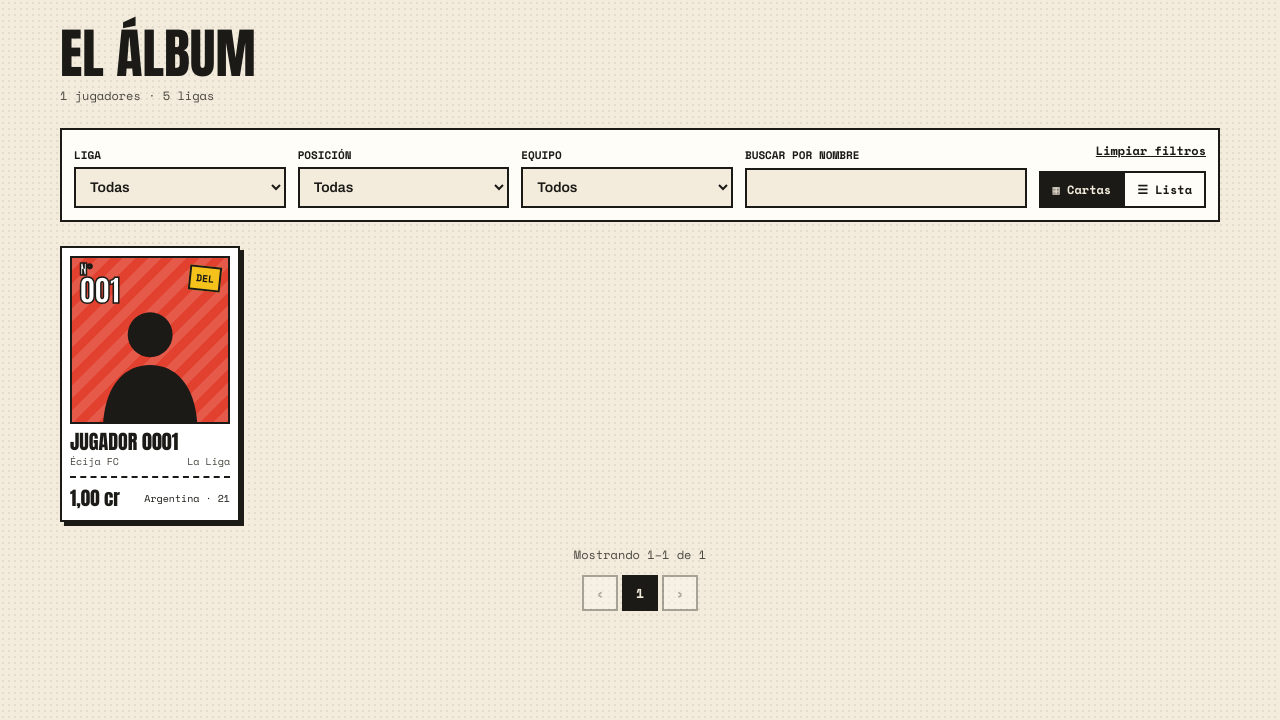
AlbumPage › retries with the current remote filters
Expected: the element named "Jugador 0001, Écija FC" is shown, x1=60 y1=246 x2=240 y2=522
Select "La Liga" in the dropdown labelled "Liga". click: (180, 188)
box: x1=74 y1=167 x2=286 y2=208
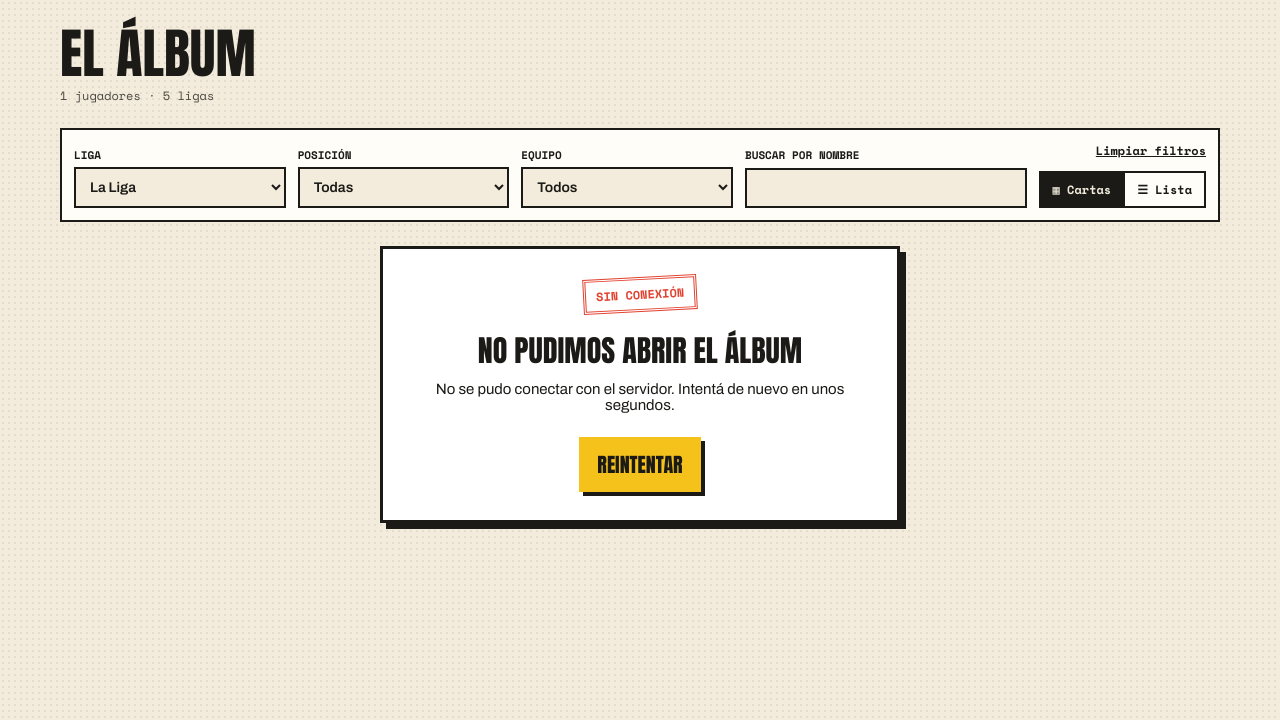
Now the heading "No pudimos abrir el álbum" is shown, box x1=478 y1=328 x2=802 y2=373
Click the button "Reintentar". click: click(640, 465)
box: x1=579 y1=437 x2=701 y2=492
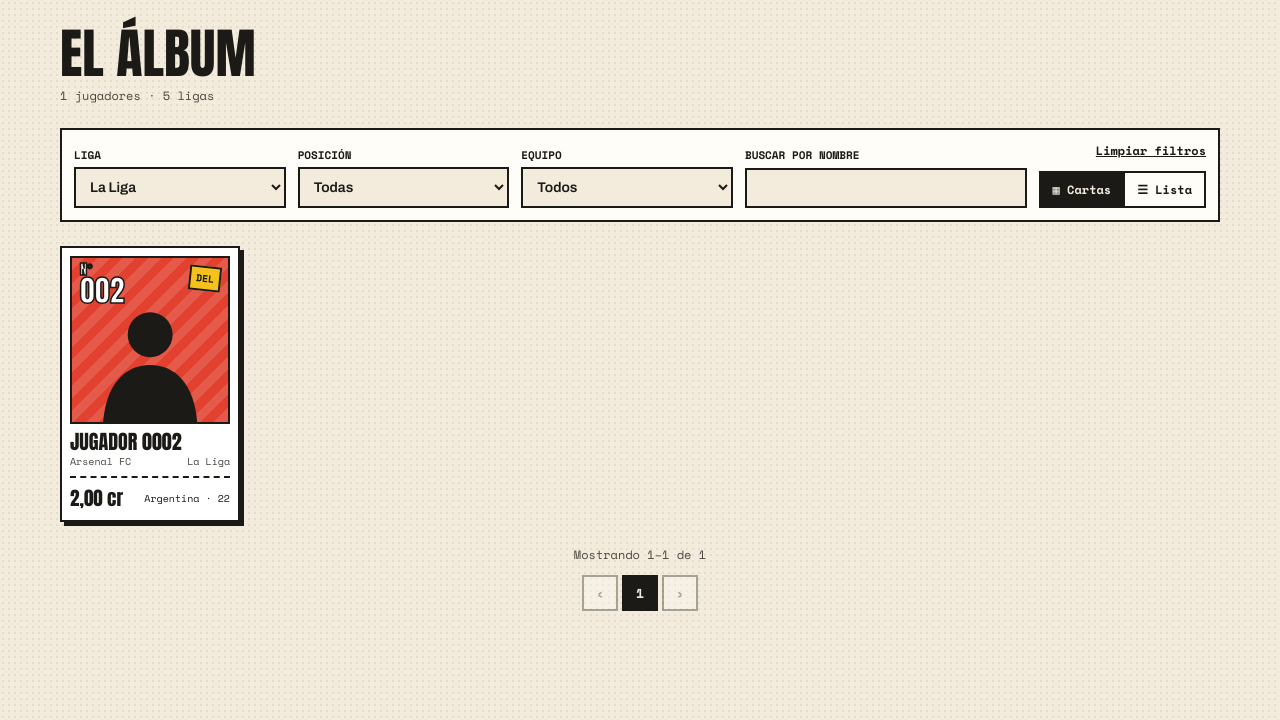
Now the element named "Jugador 0002, Arsenal FC" is shown, box x1=60 y1=246 x2=240 y2=522
